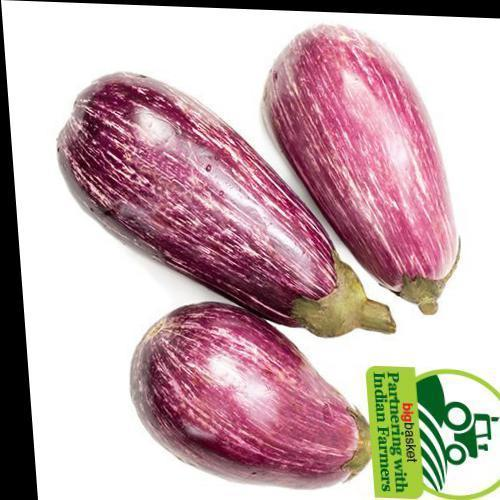eggplant: (39, 95, 384, 484), (275, 14, 484, 306), (108, 326, 375, 499)
